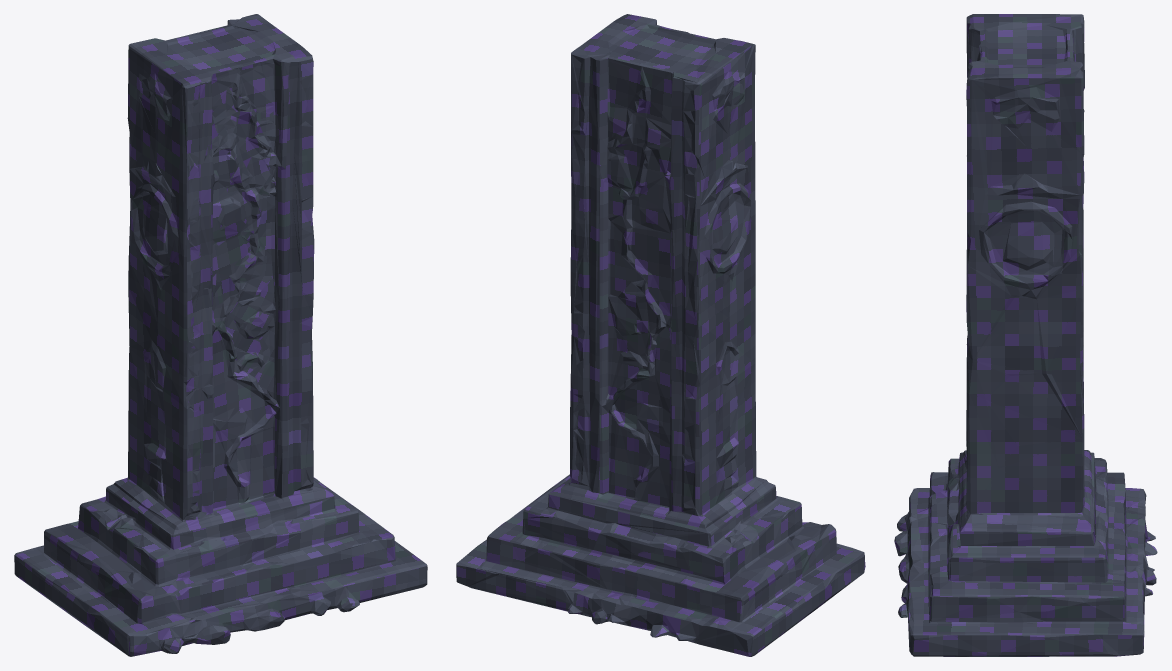
File: solitude-pillar-2.collider.glb
3 renders of one model, left to right at view 1: azimuth 30°, elevation 25°; view 2: azimuth 150°, elevation 25°; view 3: azimuth 270°, elevation 25°, orthographic.
Parts seen in each view (by area): view 1: temp_mesh.ply; view 2: temp_mesh.ply; view 3: temp_mesh.ply.
Part boxes in pixels (left/top/right/bottom): temp_mesh.ply: left=14, top=14, right=427, bottom=656; temp_mesh.ply: left=456, top=14, right=865, bottom=656; temp_mesh.ply: left=894, top=14, right=1157, bottom=656.
Size of the model in its own units: 1.16 by 1.97 by 0.8732.
Materials: 1 (1 with a texture image).
